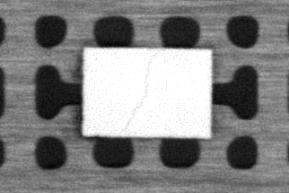DIE_CRACK: (120, 54, 156, 131)
